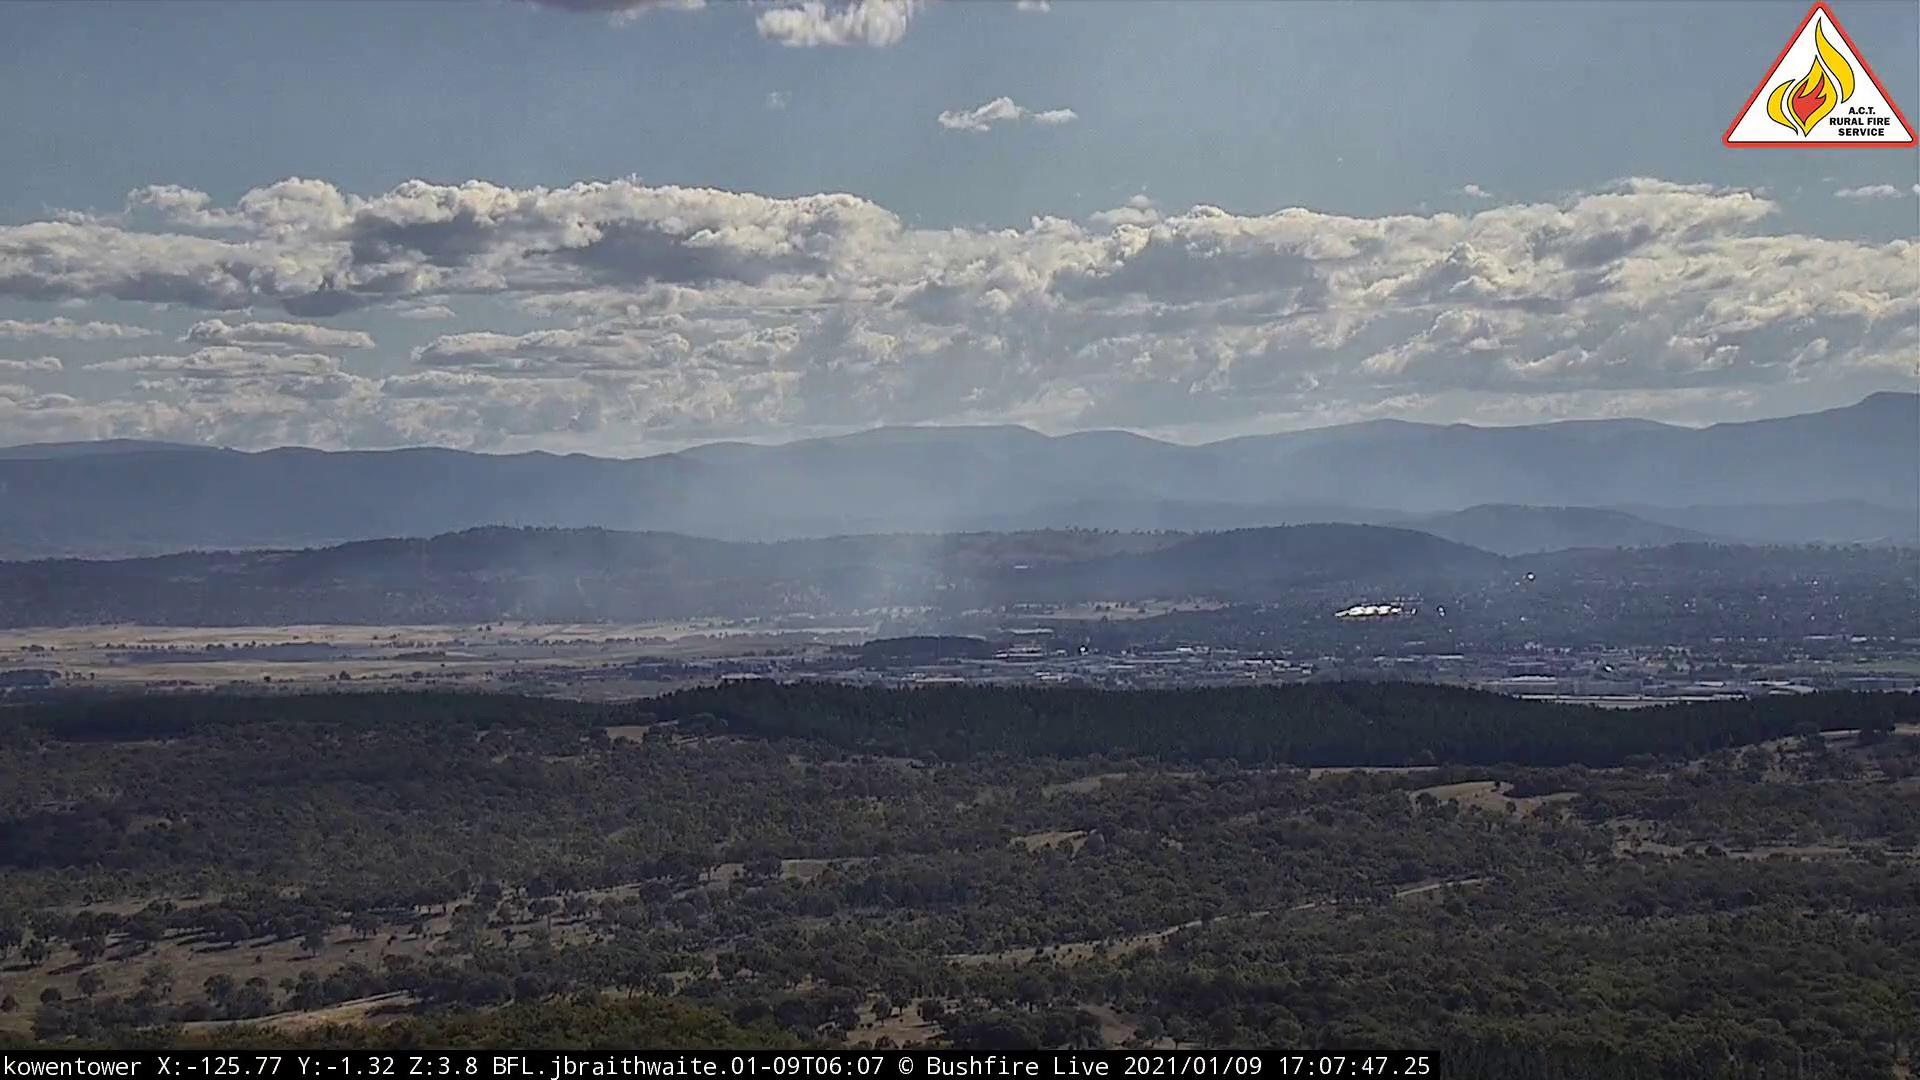Smoke: (791, 447, 1065, 629)
